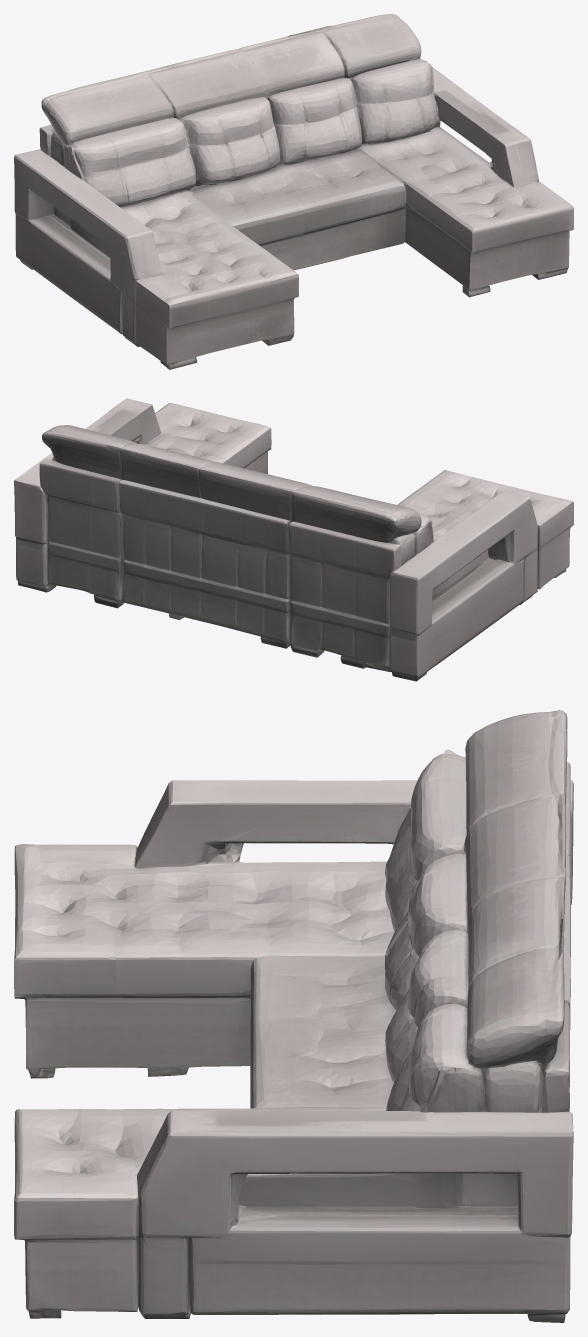
File: uyut-p3.orig.glb
The picture shows the model from 3 angles, top to bottom: view 1: azimuth 30°, elevation 25°; view 2: azimuth 150°, elevation 25°; view 3: azimuth 270°, elevation 25°; orthographic projection. The views are drawn at different scales.
Visible parts, largest first — view 1: geometry_0; view 2: geometry_0; view 3: geometry_0.
Part boxes in pixels (box(x1,y1,x2,y2)): geometry_0: box(14, 14, 573, 369); geometry_0: box(14, 398, 573, 681); geometry_0: box(14, 710, 573, 1322).
Size of the model in its own units: 1 by 0.3862 by 0.6676.
1 material, 1 textured.
